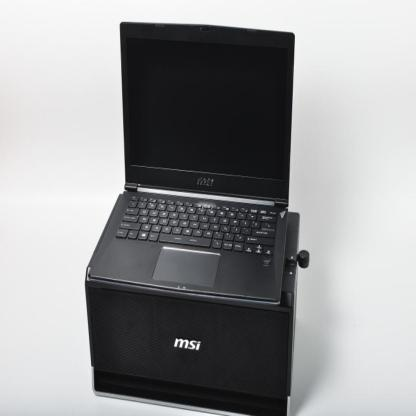board: (87, 19, 296, 310)
